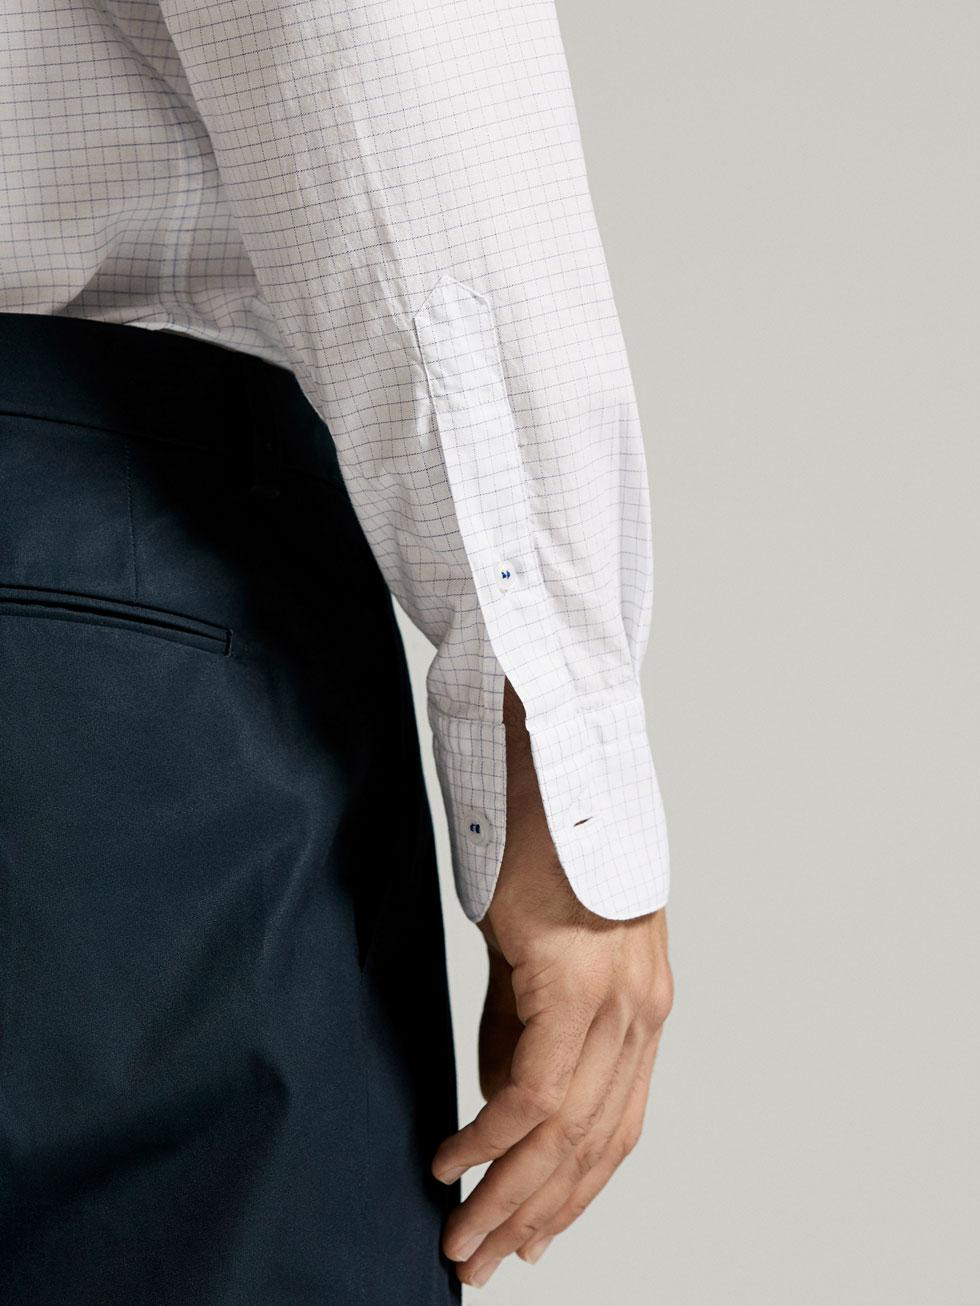teeshirt: (1, 4, 705, 951)
